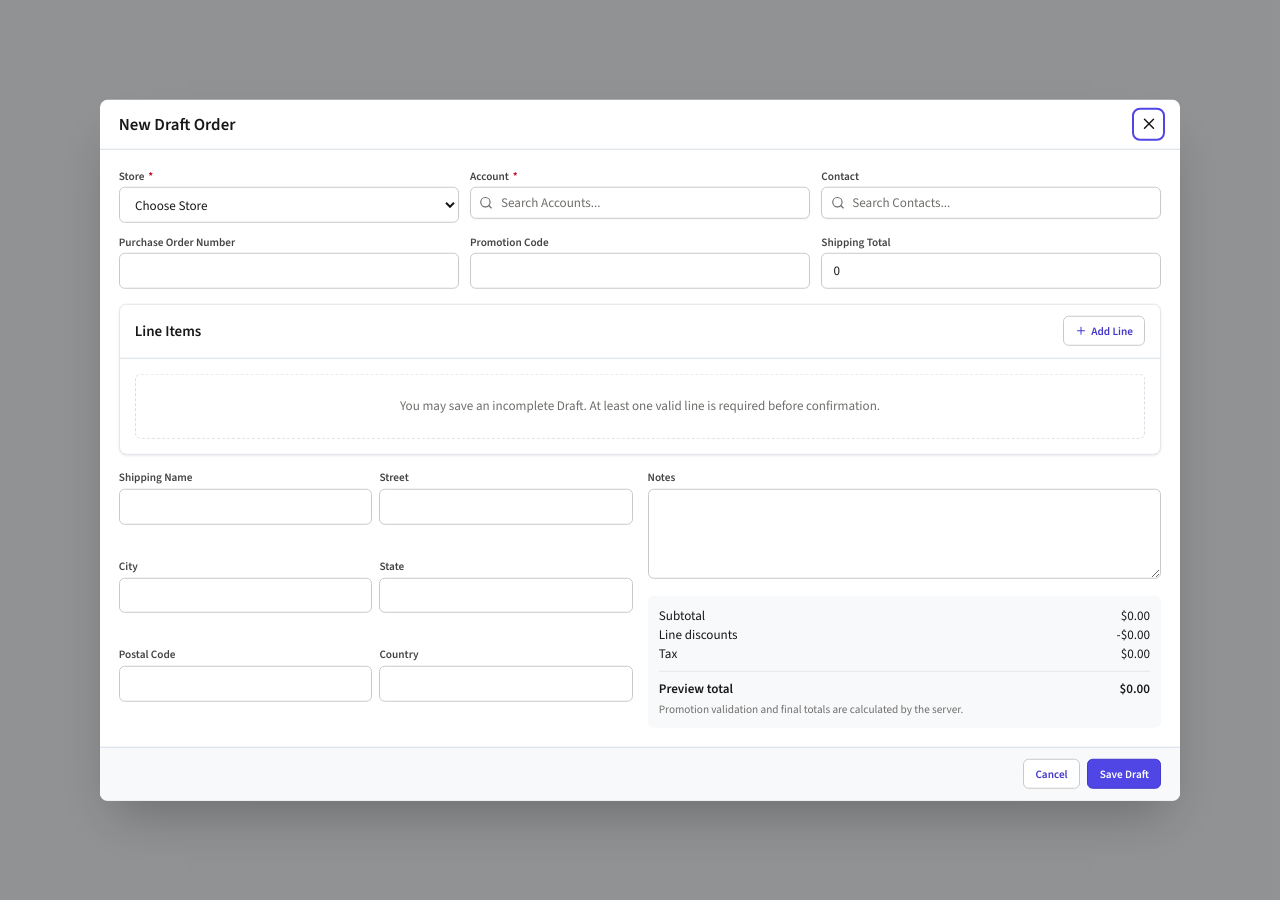
Test: OrderEditor › uses searchable account and contact lookups and scopes contacts to the chosen account
In the dropdown labelled "Account": (640, 203) left=470, top=187, right=810, bottom=219, type "Beta"
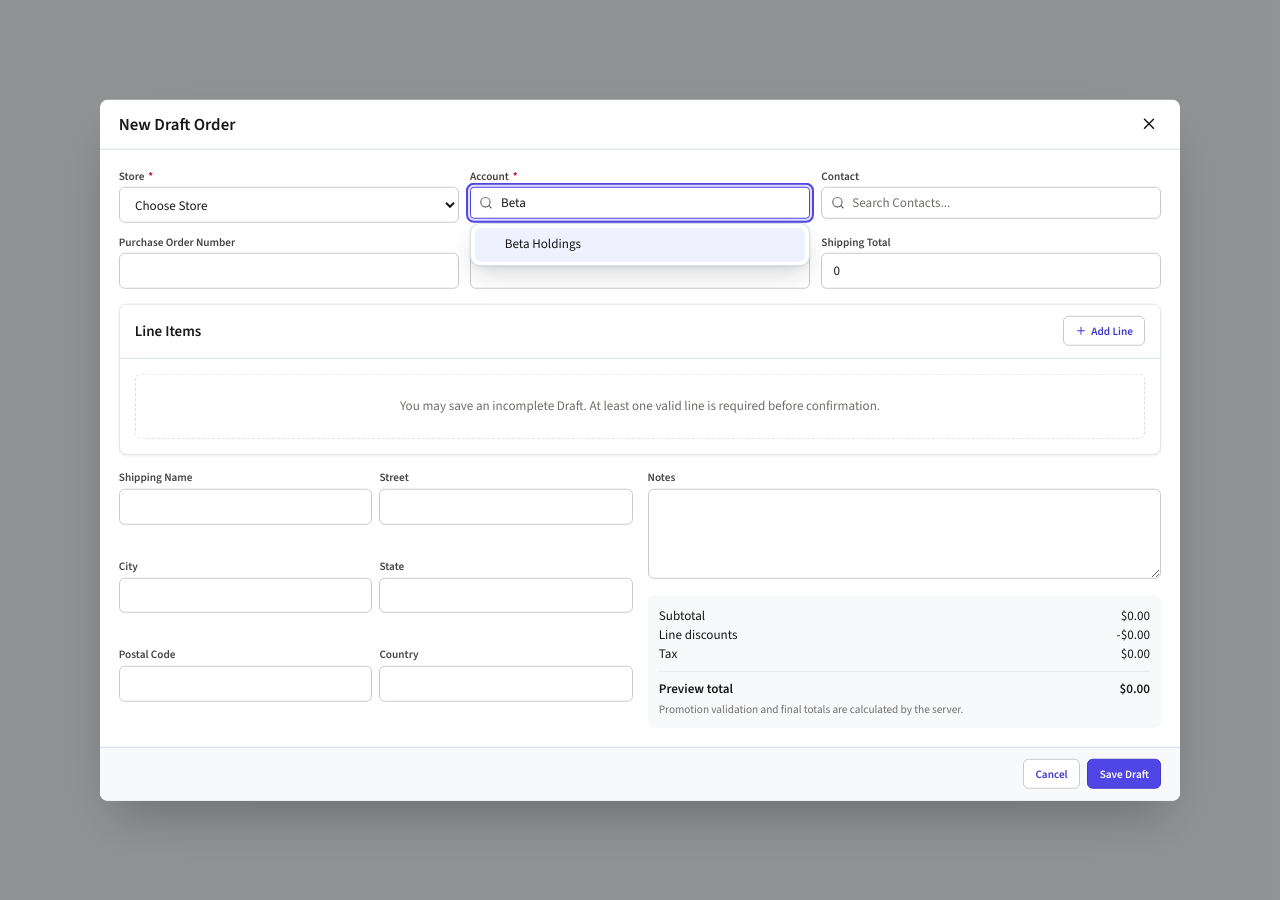
Click the option "Beta Holdings": (543, 244) left=475, top=228, right=805, bottom=262
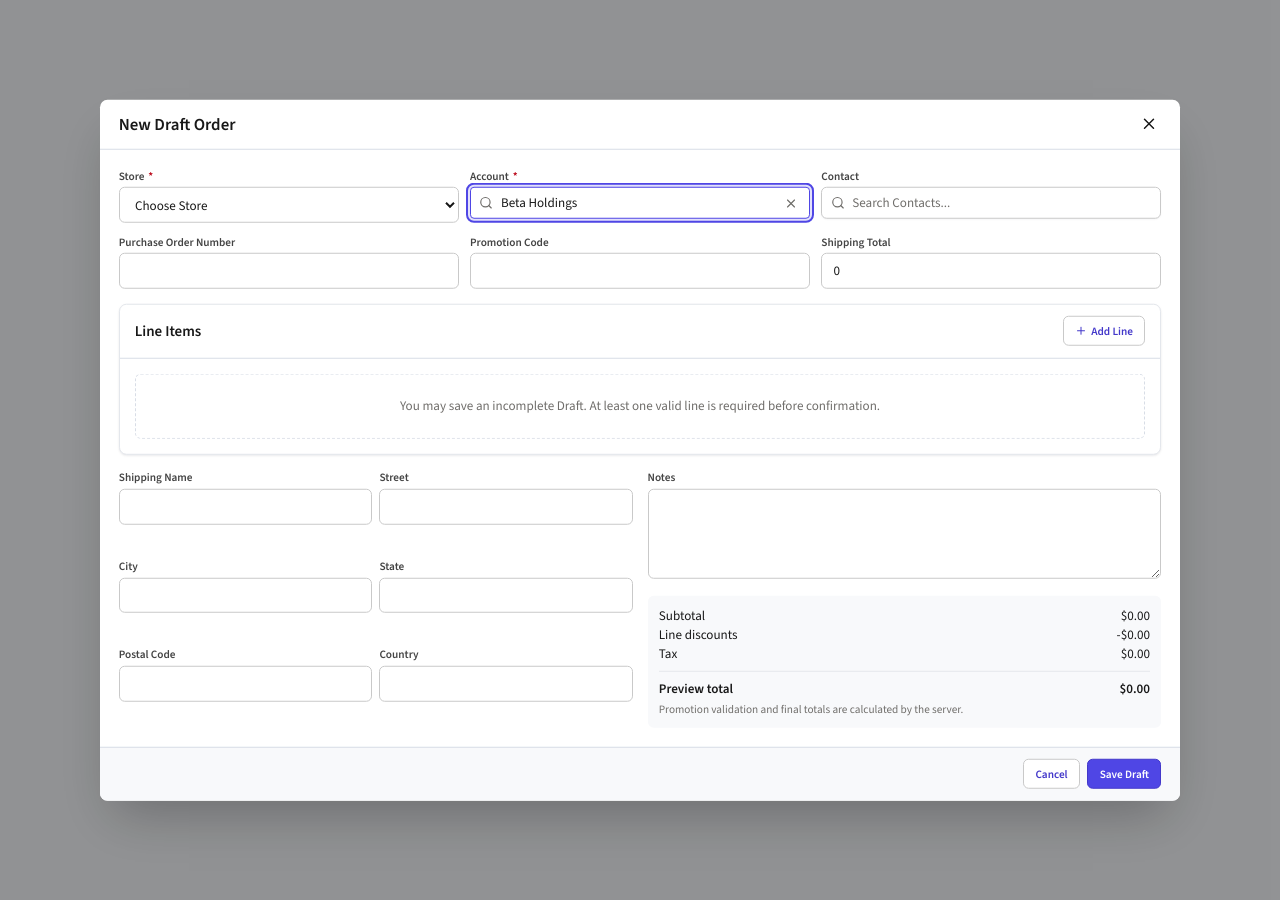
Check: the dropdown labelled "Account" holds "Beta Holdings", box left=470, top=187, right=810, bottom=219
Click the dropdown labelled "Contact": (991, 203) left=821, top=187, right=1161, bottom=219
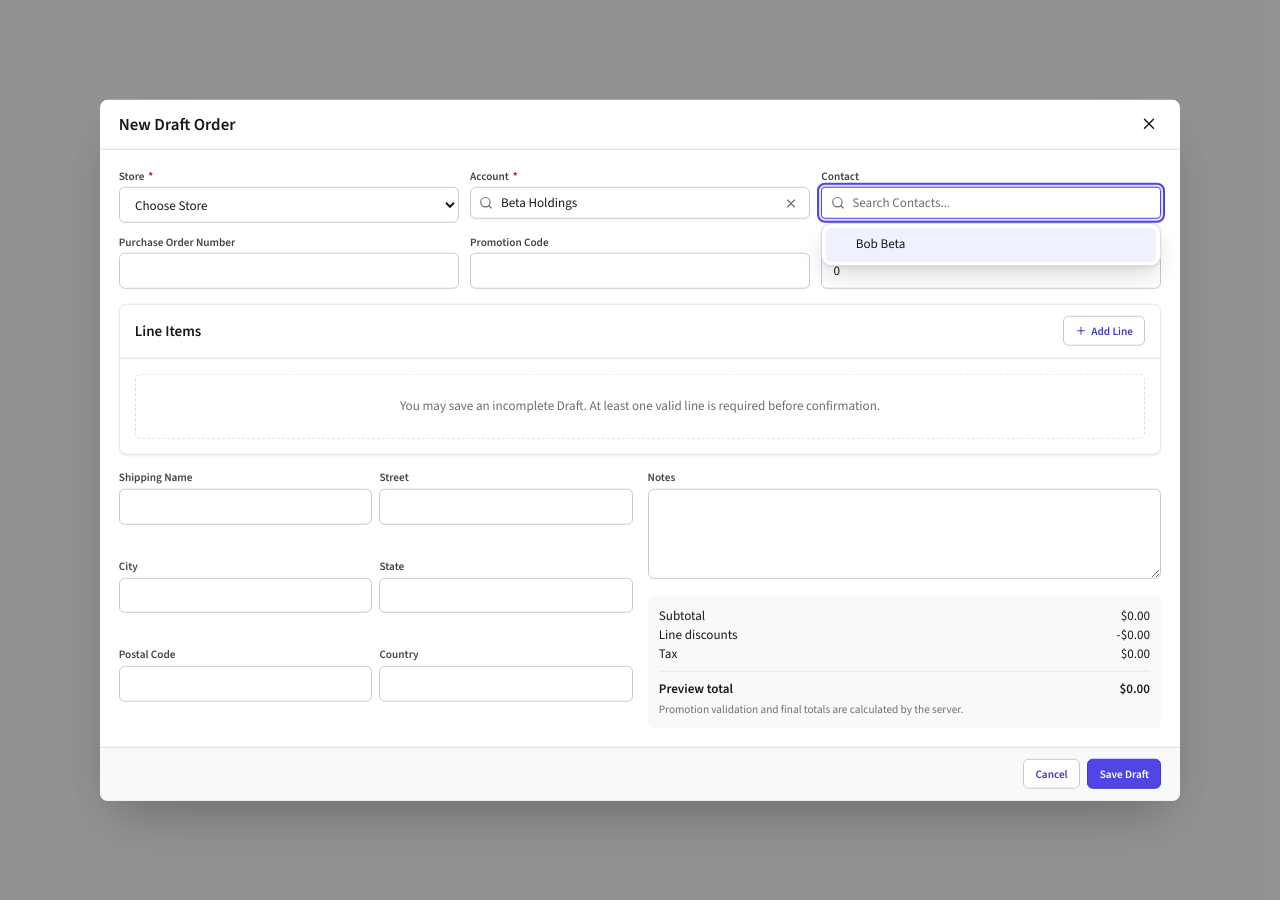
Check: the option "Bob Beta" is shown, box left=826, top=228, right=1156, bottom=262
Press Escape
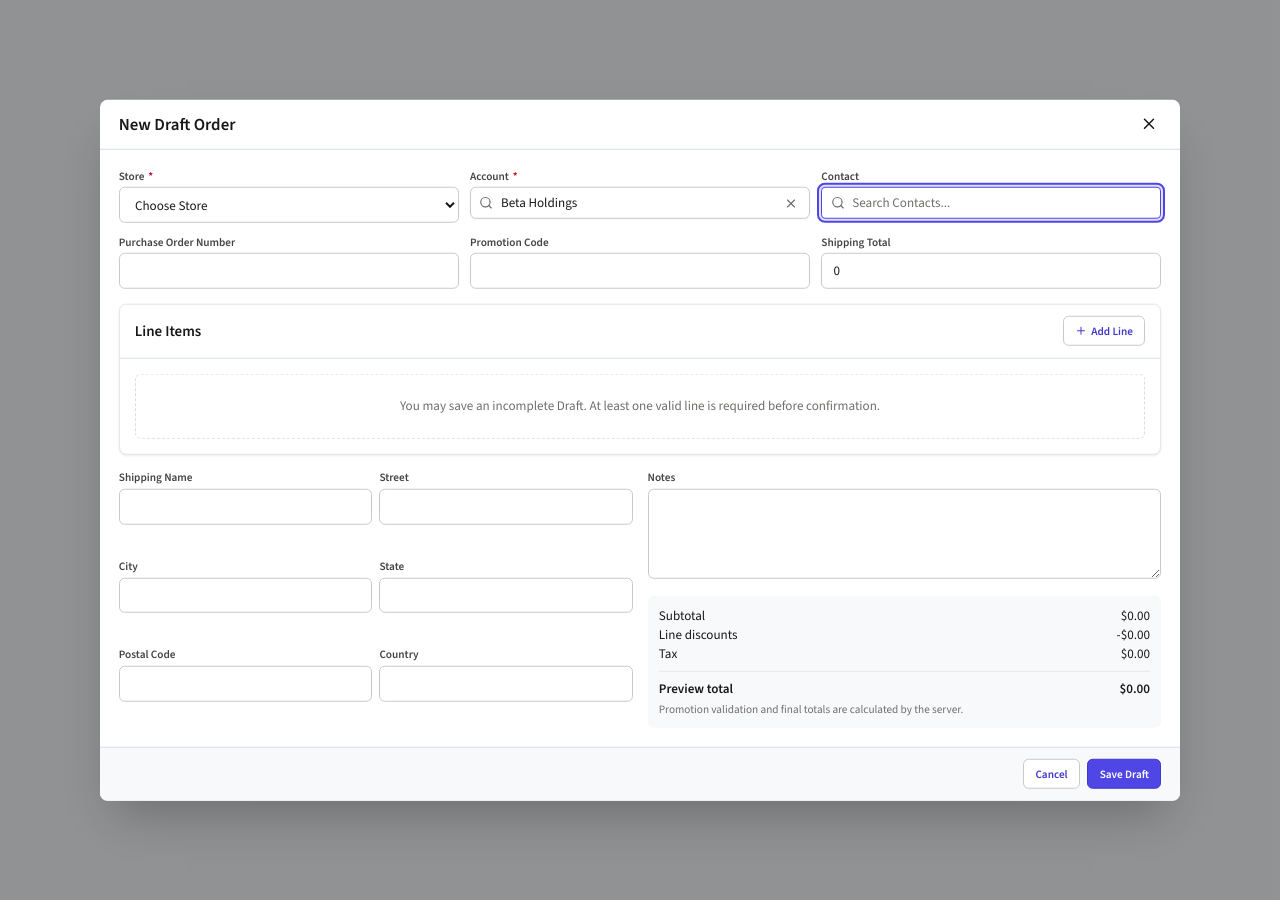
Click the button "Add Line": (1104, 331) left=1063, top=316, right=1145, bottom=346
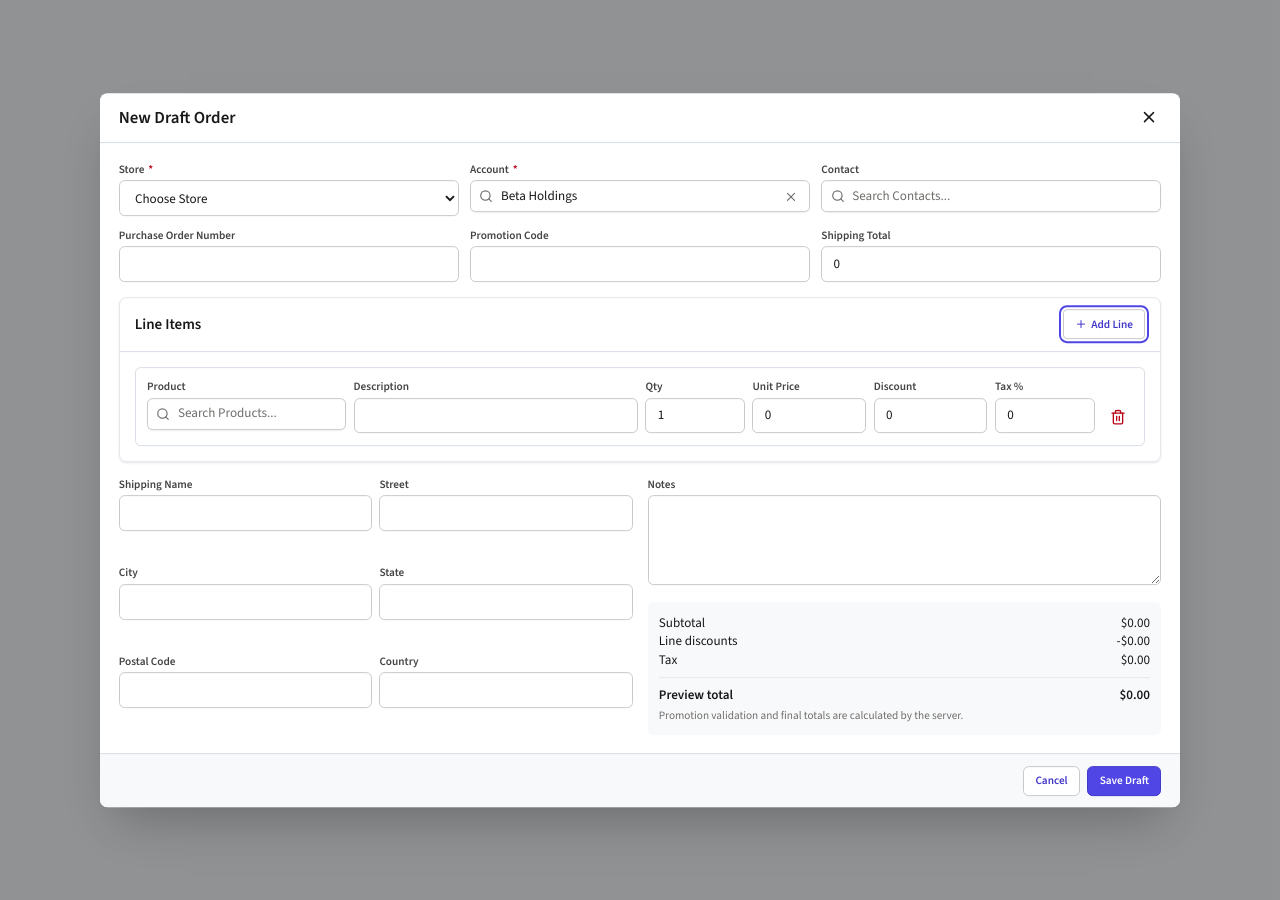
In the dropdown named "Line 1 Product": (247, 414) left=147, top=398, right=346, bottom=430, type "Widget"
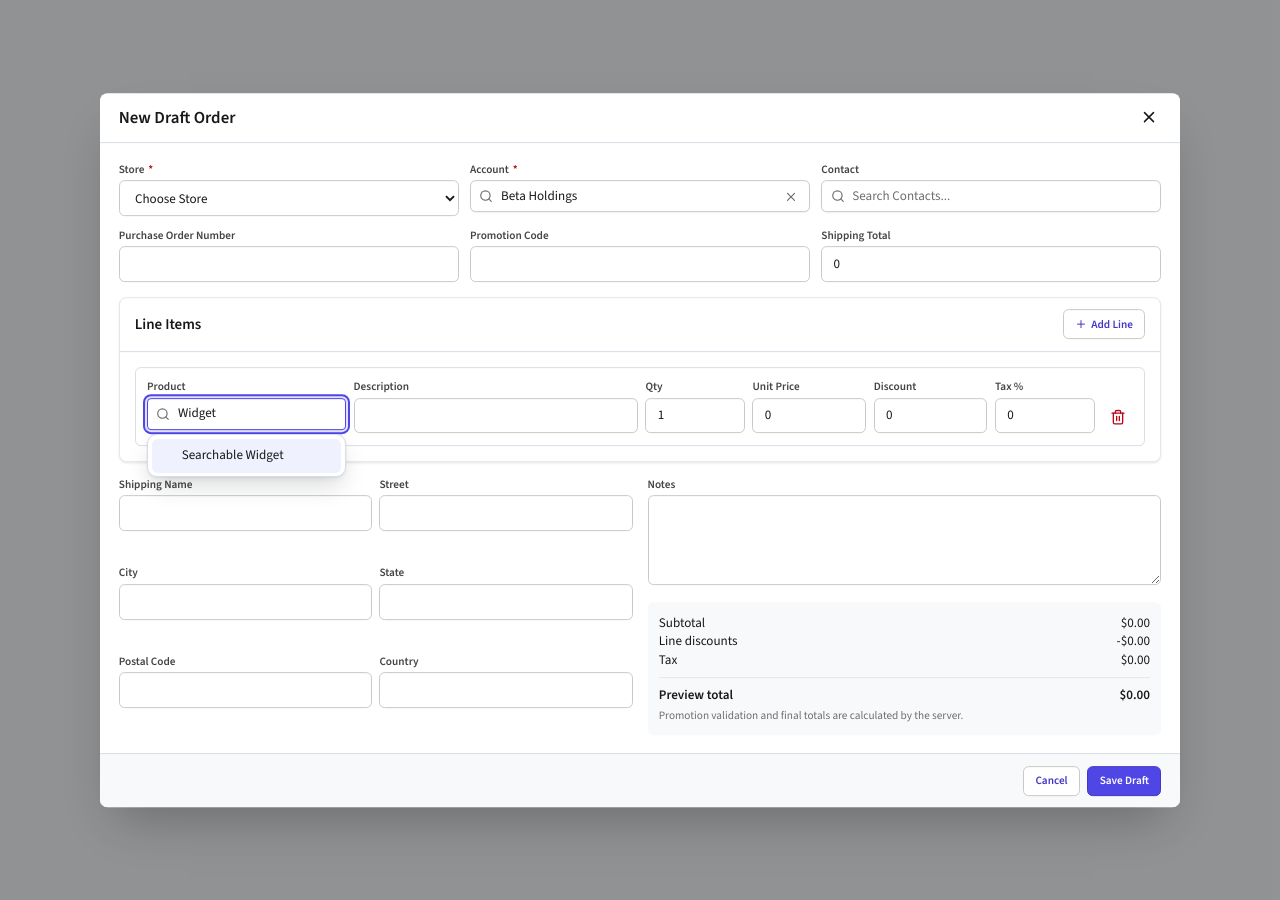
Check: the option "Searchable Widget" is shown, box left=152, top=439, right=341, bottom=473
